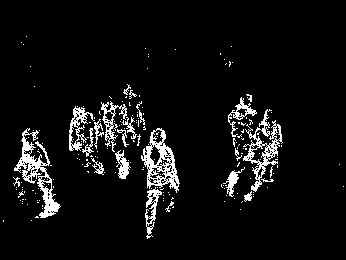person: (13, 126, 64, 220), (140, 125, 180, 242), (241, 108, 284, 202), (220, 92, 257, 200), (96, 96, 130, 180), (67, 104, 105, 176), (118, 81, 144, 144)
